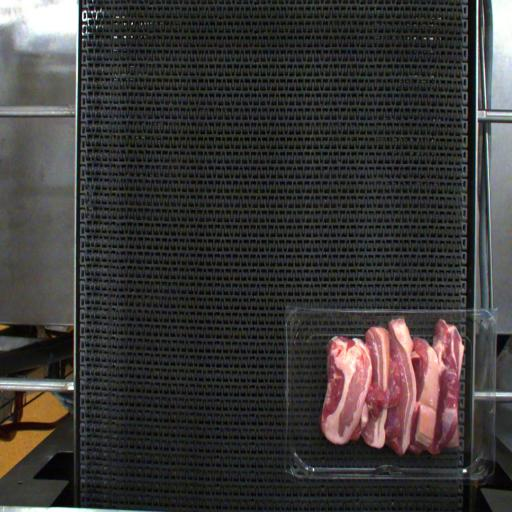twisted-meat: (408, 334, 434, 452)
